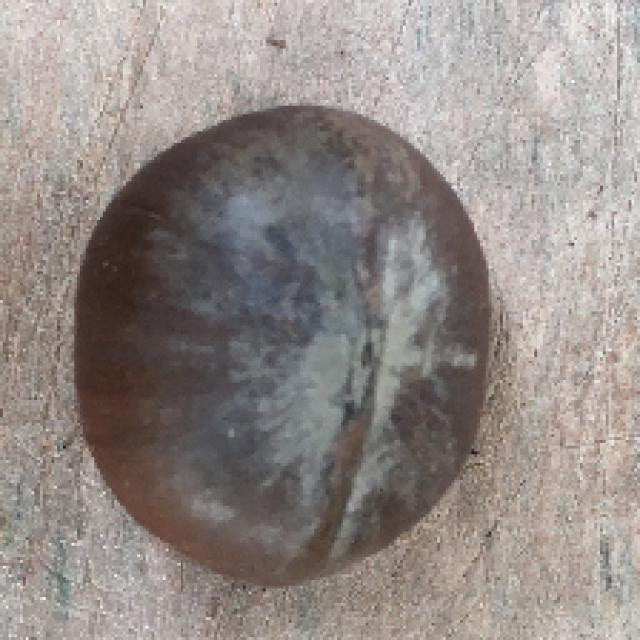damagedHazelnut: (66, 97, 498, 584)
